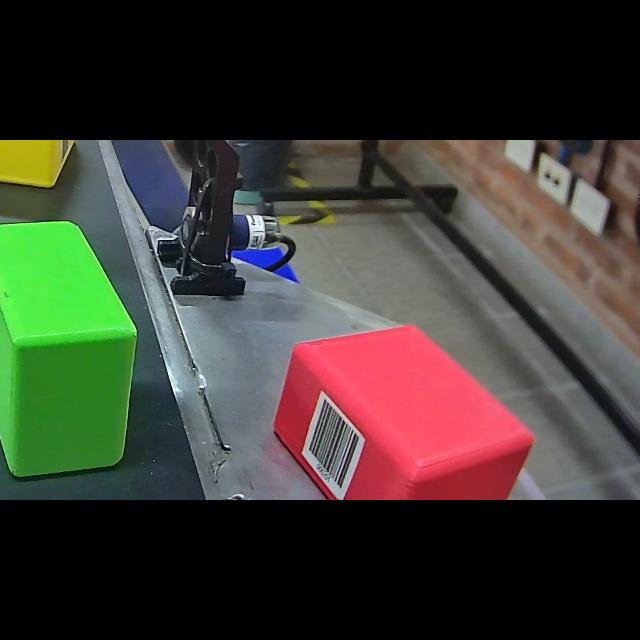greenBox: (0, 212, 138, 483)
redBox: (270, 318, 546, 500)
yellowBox: (0, 140, 90, 194)
